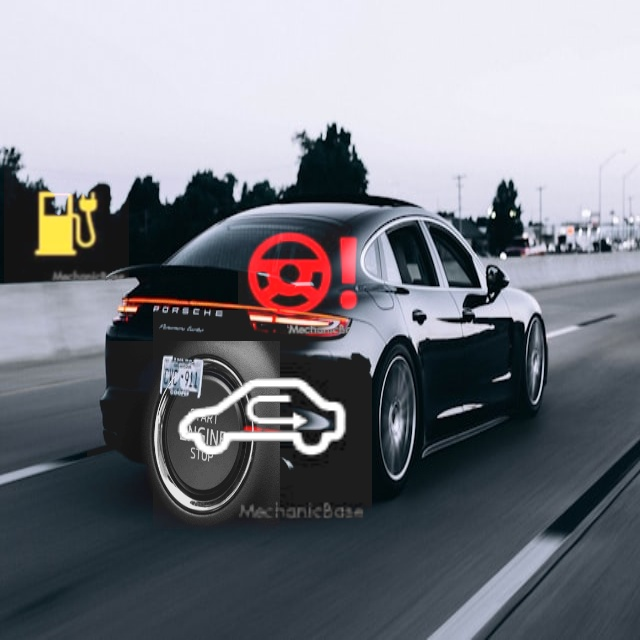symbol: (153, 310, 372, 529), (87, 341, 280, 534), (238, 210, 368, 340), (4, 162, 129, 287)
